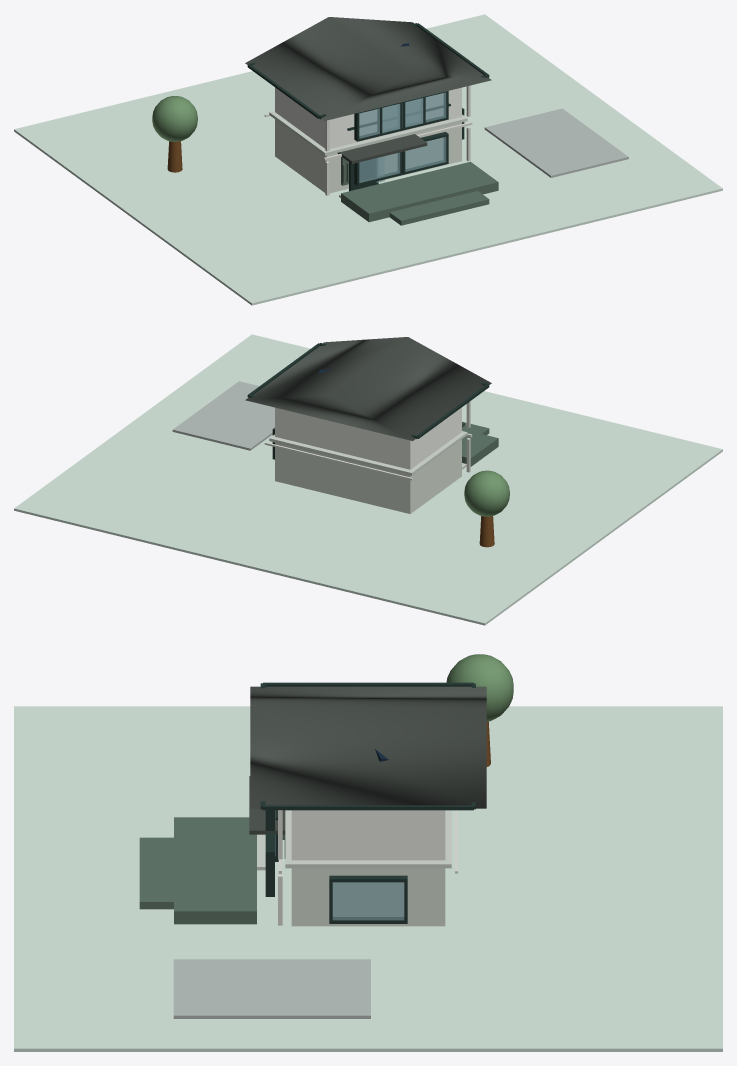
The model's file is generated-shell-pnu-41450-002-forest-timber.meshopt.glb.
3 views of the same model, one above another, from view 1: azimuth 30°, elevation 25°; view 2: azimuth 150°, elevation 25°; view 3: azimuth 270°, elevation 25° (orthographic). The views are drawn at different scales.
Visible parts, largest first — view 1: IfcSite_ServicePreviewBase, IfcRoof_GableRoof, IfcSpace_ParkingPad, IfcWindow_Glass (×5), IfcSlab_shell-c1-PNU-41450-002-slab-block-front-deck-1ccdaf6, IfcBuildingElementProxy_FloorMass_L1, IfcBuildingElementProxy_FloorMass_L2, IfcGeographicElement_GardenTree, IfcSlab_DeckModule, IfcSlab_LevelCap_L1, IfcCovering_EntranceCanopy, IfcDoor_MainEntranceFrame; view 2: IfcSite_ServicePreviewBase, IfcRoof_GableRoof, IfcBuildingElementProxy_FloorMass_L1, IfcBuildingElementProxy_FloorMass_L2, IfcSpace_ParkingPad, IfcGeographicElement_GardenTree, IfcSlab_LevelCap_L1, IfcSlab_shell-c1-PNU-41450-002-slab-block-front-deck-1ccdaf6, IfcCovering_BackShadowBand_L1; view 3: IfcSite_ServicePreviewBase, IfcRoof_GableRoof, IfcSpace_ParkingPad, IfcSlab_shell-c1-PNU-41450-002-slab-block-front-deck-1ccdaf6, IfcBuildingElementProxy_FloorMass_L1, IfcBuildingElementProxy_FloorMass_L2, IfcWindow_Glass, IfcGeographicElement_GardenTree, IfcSlab_DeckModule, IfcSlab_LevelCap_L1, IfcCovering_RoofGutterRight, IfcCovering_RoofGutterLeft (+1 smaller).
Part boxes in pixels (box(x1,y1,x2,y2)): IfcSite_ServicePreviewBase: box(14, 14, 722, 305); IfcRoof_GableRoof: box(245, 17, 491, 120); IfcSpace_ParkingPad: box(484, 108, 628, 177); IfcWindow_Glass (×5): box(359, 92, 446, 182); IfcSlab_shell-c1-PNU-41450-002-slab-block-front-deck-1ccdaf6: box(341, 161, 498, 222); IfcBuildingElementProxy_FloorMass_L1: box(275, 119, 461, 193); IfcBuildingElementProxy_FloorMass_L2: box(275, 87, 461, 148); IfcGeographicElement_GardenTree: box(152, 96, 197, 172); IfcSlab_DeckModule: box(389, 191, 489, 225); IfcSlab_LevelCap_L1: box(269, 111, 467, 155); IfcCovering_EntranceCanopy: box(337, 134, 427, 163); IfcDoor_MainEntranceFrame: box(349, 159, 378, 191); IfcSite_ServicePreviewBase: box(14, 334, 722, 625); IfcRoof_GableRoof: box(245, 337, 491, 440); IfcBuildingElementProxy_FloorMass_L1: box(275, 439, 461, 513); IfcBuildingElementProxy_FloorMass_L2: box(275, 407, 461, 469); IfcSpace_ParkingPad: box(172, 381, 274, 450); IfcGeographicElement_GardenTree: box(464, 470, 509, 547); IfcSlab_LevelCap_L1: box(269, 431, 467, 475); IfcSlab_shell-c1-PNU-41450-002-slab-block-front-deck-1ccdaf6: box(462, 429, 498, 466); IfcCovering_BackShadowBand_L1: box(264, 442, 412, 480); IfcSite_ServicePreviewBase: box(14, 706, 722, 1051); IfcRoof_GableRoof: box(250, 686, 486, 808); IfcSpace_ParkingPad: box(173, 959, 370, 1018); IfcSlab_shell-c1-PNU-41450-002-slab-block-front-deck-1ccdaf6: box(174, 817, 256, 924); IfcBuildingElementProxy_FloorMass_L1: box(291, 868, 445, 926); IfcBuildingElementProxy_FloorMass_L2: box(291, 810, 445, 860); IfcWindow_Glass: box(332, 882, 404, 920); IfcGeographicElement_GardenTree: box(446, 654, 513, 766); IfcSlab_DeckModule: box(139, 837, 173, 909); IfcSlab_LevelCap_L1: box(285, 810, 451, 868); IfcCovering_RoofGutterRight: box(263, 805, 473, 810); IfcCovering_RoofGutterLeft: box(263, 682, 473, 686).
Bounding box in the file's own units: 32 × 7.65 × 28.
